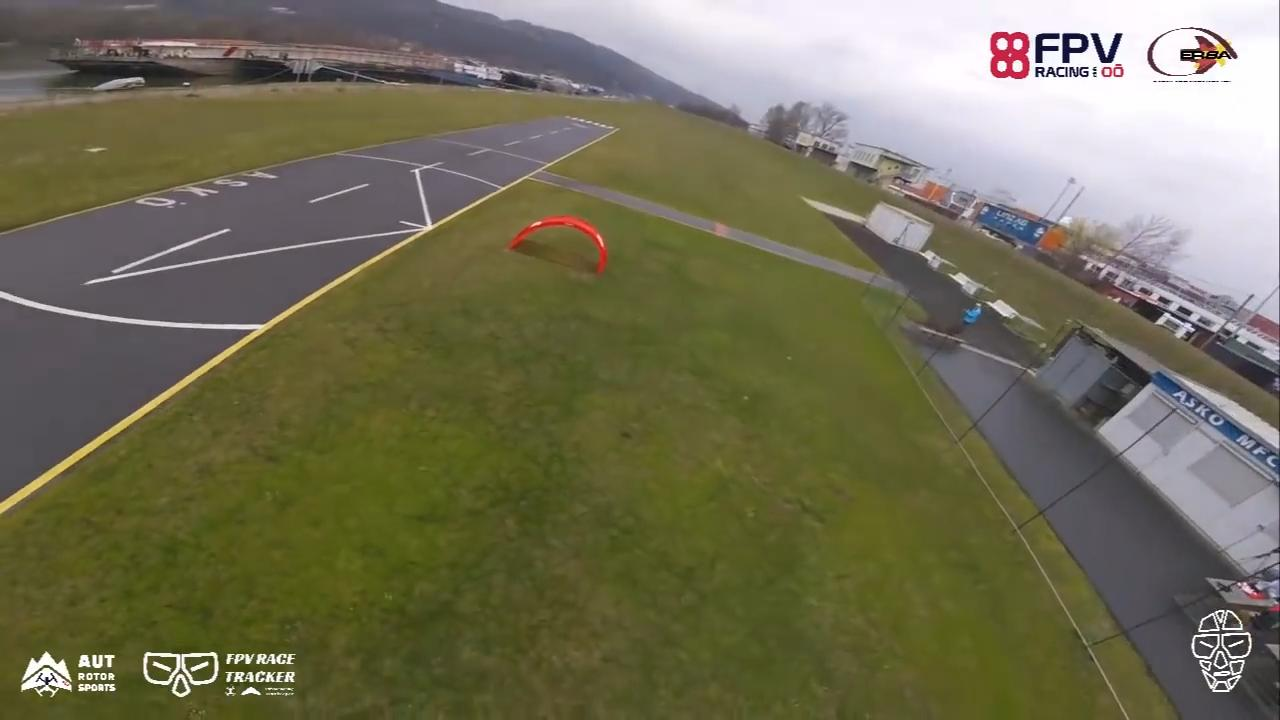gate: (508, 213, 610, 279)
